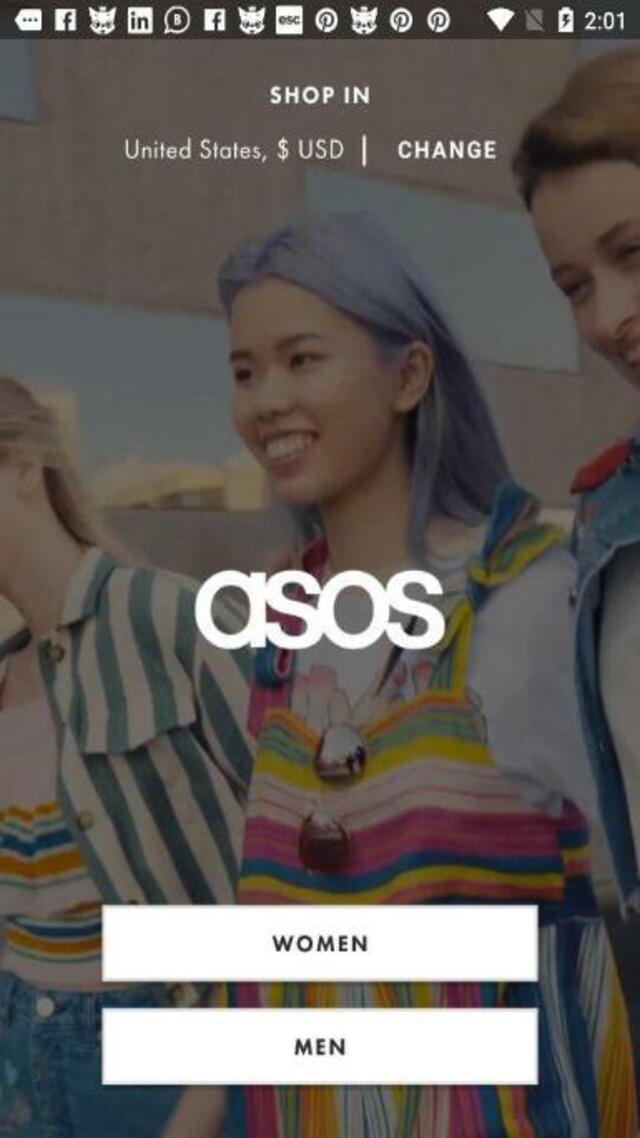Image: (193, 568, 444, 648)
Text: (125, 136, 344, 163), (265, 929, 375, 955), (397, 140, 497, 160), (269, 86, 369, 106), (289, 1032, 348, 1060)
TextButton: (101, 904, 537, 982), (103, 1008, 539, 1084)
